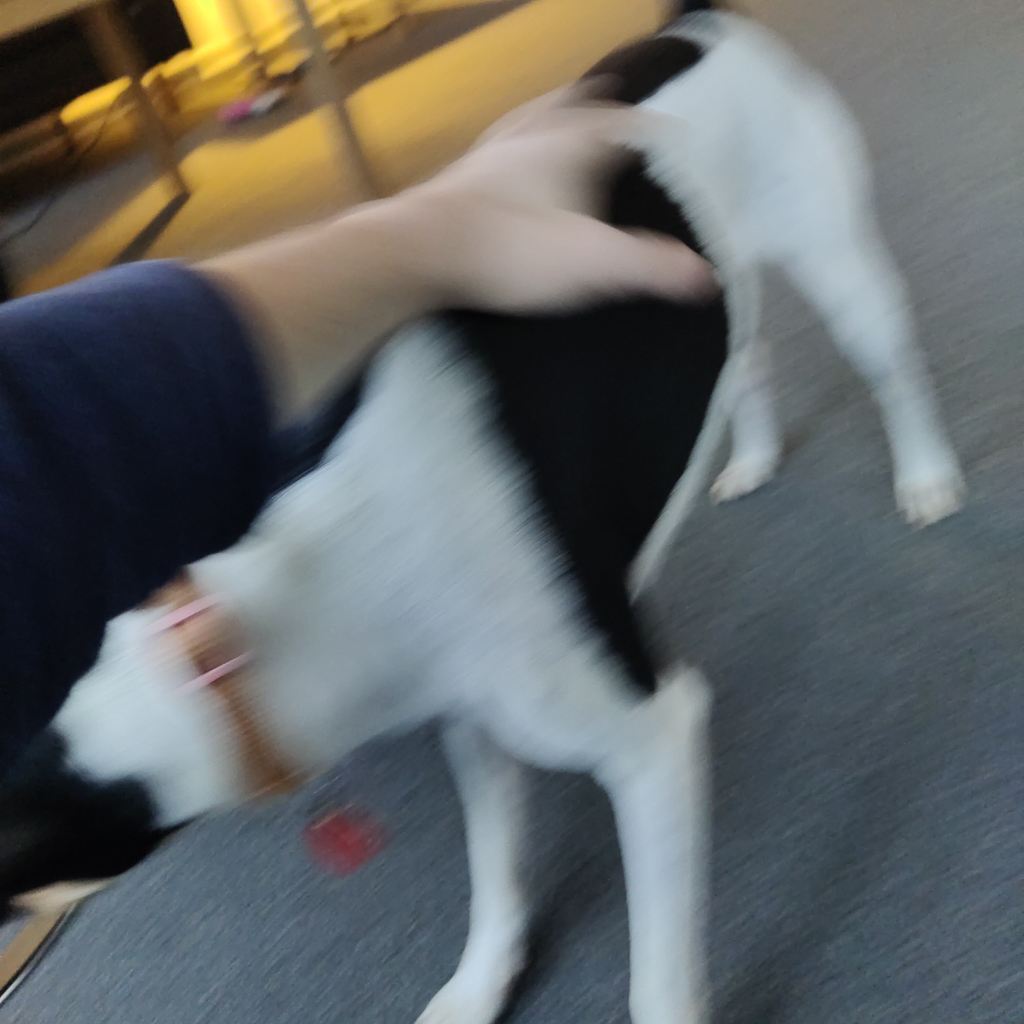Dog: (0, 0, 985, 1024)
Humanoid: (0, 60, 726, 780)
